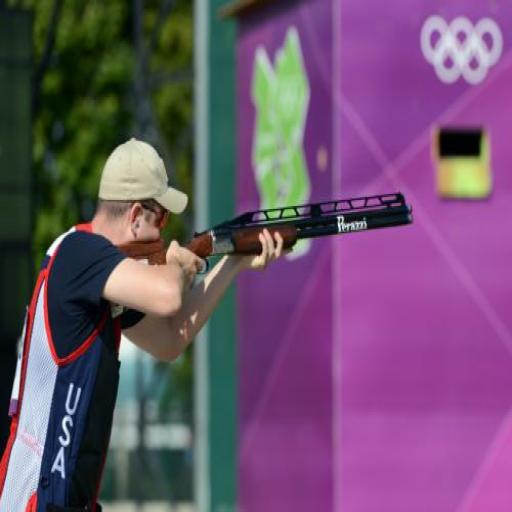shooting: (0, 135, 292, 510)
